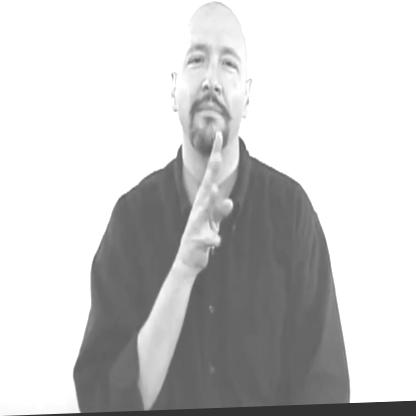Talk: (165, 0, 259, 272)
